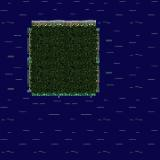Slow: (101, 0, 160, 160), (27, 98, 102, 160), (0, 0, 27, 160), (27, 0, 102, 19)
